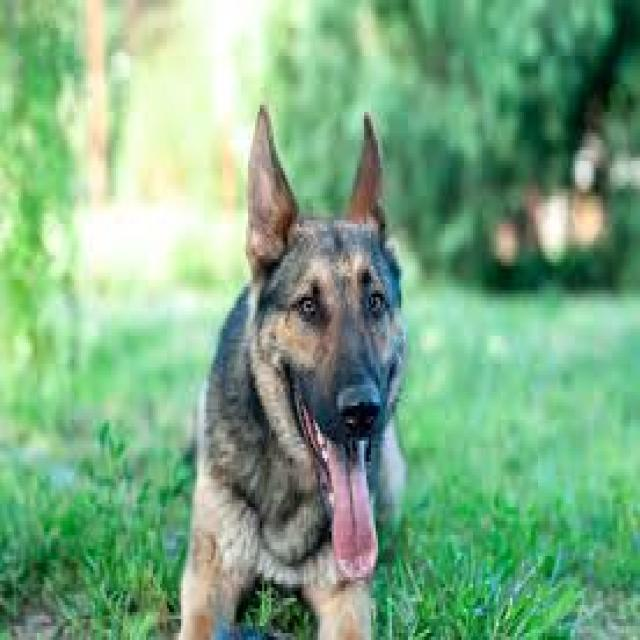Dog: (174, 91, 415, 640)
